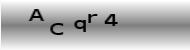4: (104, 13, 119, 27)
A: (28, 8, 44, 22)
C: (48, 22, 64, 37)
q: (72, 19, 87, 33)
r: (87, 12, 98, 24)
